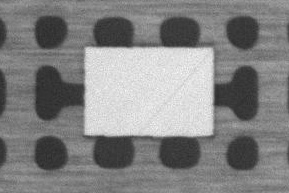DIE_CRACK: (139, 50, 212, 132)
